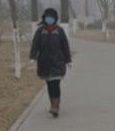person: (28, 8, 74, 117)
